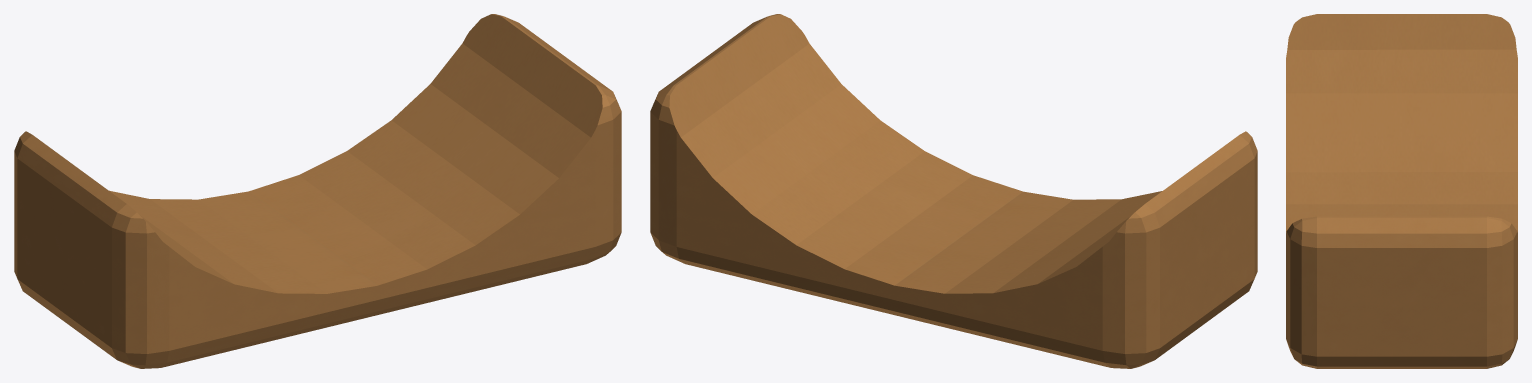
File: BriquePierreCreux.glb
3 renders of one model, left to right at view 1: azimuth 30°, elevation 25°; view 2: azimuth 150°, elevation 25°; view 3: azimuth 270°, elevation 25°, orthographic. The views are drawn at different scales.
Parts seen in each view (by area): view 1: BriquePierreACreuser; view 2: BriquePierreACreuser; view 3: BriquePierreACreuser.
Part boxes in pixels (left/top/right/bottom): BriquePierreACreuser: left=14, top=14, right=621, bottom=368; BriquePierreACreuser: left=650, top=14, right=1257, bottom=368; BriquePierreACreuser: left=1286, top=14, right=1517, bottom=368.
Bounding box in the file's own units: 12.03 × 3.89 × 5.29.
1 material, 1 textured.
